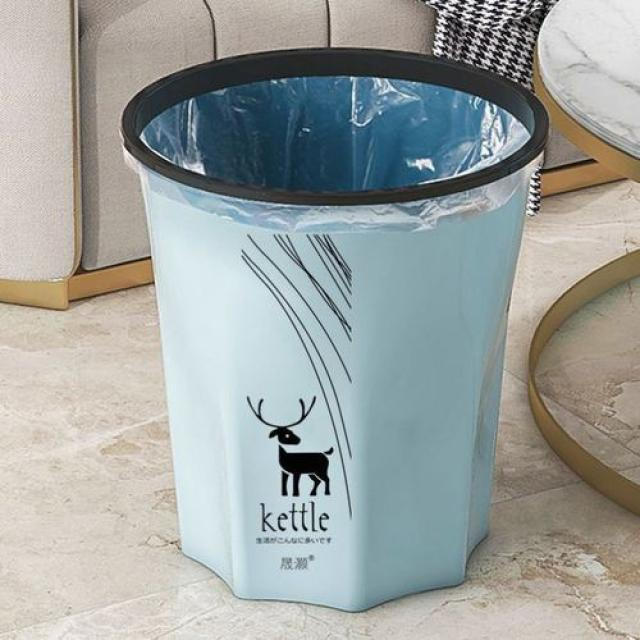dustbin: (112, 38, 557, 614)
